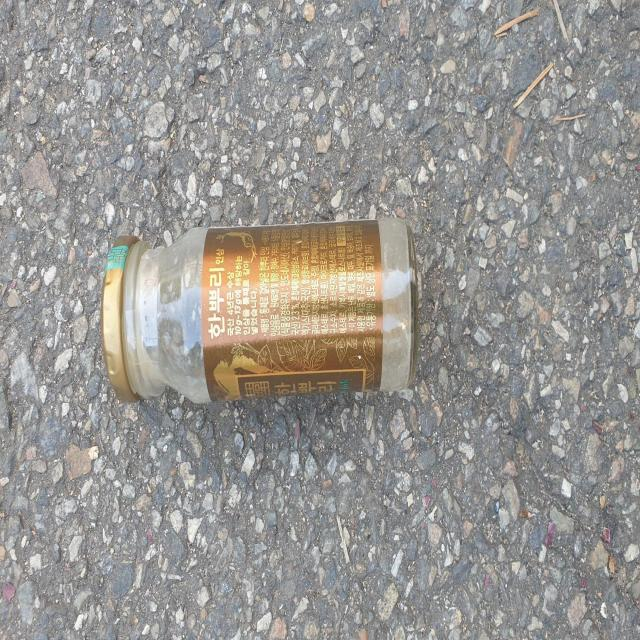glass: (101, 217, 418, 402)
